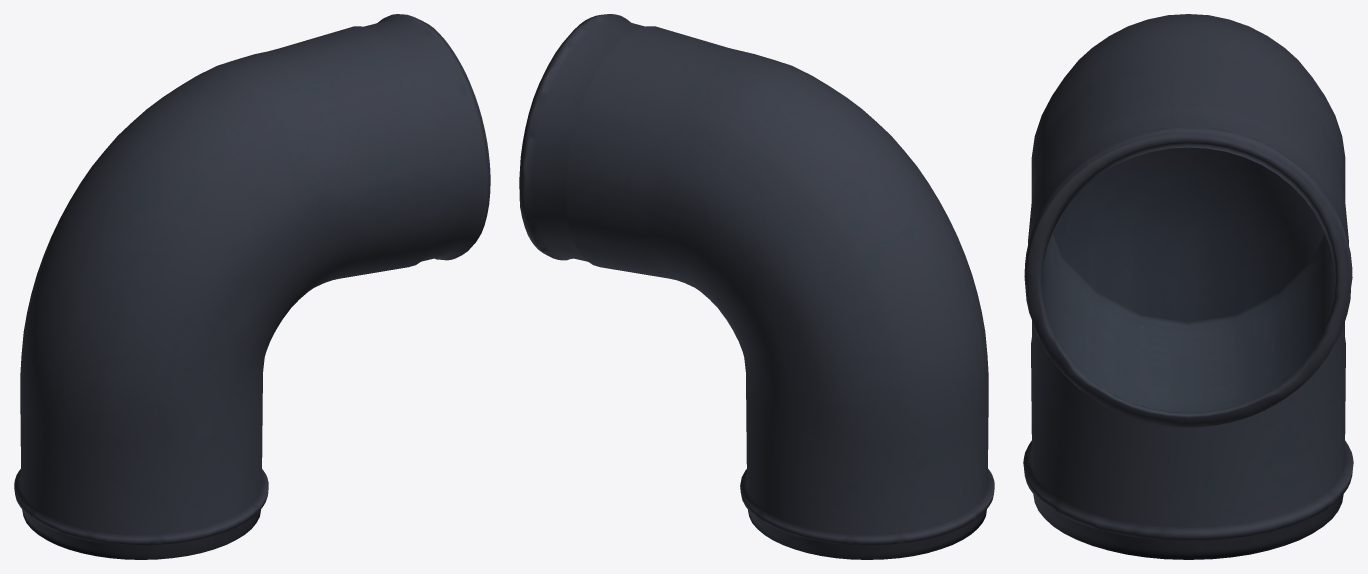
Rendered from industrial+pipe+elbow+3d+model.glb.
3 renders of one model, left to right at view 1: azimuth 30°, elevation 25°; view 2: azimuth 150°, elevation 25°; view 3: azimuth 270°, elevation 25°, orthographic. The views are drawn at different scales.
Parts seen in each view (by area): view 1: tripo_node_8d1556bd-f51c-41e3-896b-5d1f4b1c9d99; view 2: tripo_node_8d1556bd-f51c-41e3-896b-5d1f4b1c9d99; view 3: tripo_node_8d1556bd-f51c-41e3-896b-5d1f4b1c9d99.
Boxes of the visible parts, bbox=[...] form: tripo_node_8d1556bd-f51c-41e3-896b-5d1f4b1c9d99: bbox=[14, 14, 490, 559]; tripo_node_8d1556bd-f51c-41e3-896b-5d1f4b1c9d99: bbox=[519, 14, 994, 559]; tripo_node_8d1556bd-f51c-41e3-896b-5d1f4b1c9d99: bbox=[1023, 14, 1353, 559].
Size of the model in its own units: 0.9995 by 0.9995 by 0.5503.
Materials: 1 (1 with a texture image).
